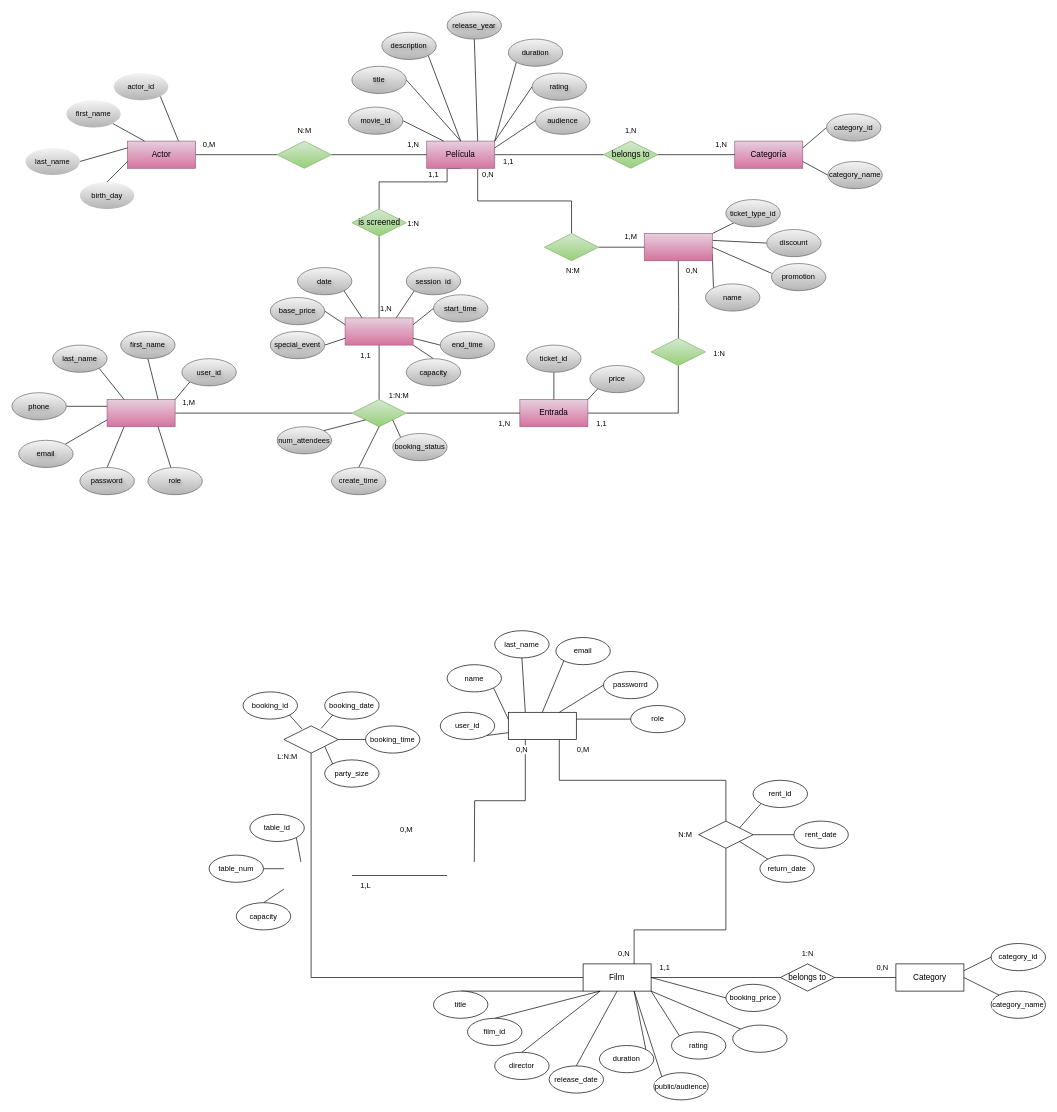
The diagram is 1057 pixels wide and 1112 high, and some of its shapes have lost their labels. The box of each missing label's shape, as (x1, y1, x2, y2) in pixels:
booking: (351, 399, 406, 427)
books: (283, 725, 338, 753)
has: (544, 233, 599, 261)
is: (650, 338, 706, 366)
participates: (276, 140, 332, 168)
rent_price: (732, 1024, 787, 1052)
rents: (698, 820, 753, 848)
Sesión: (344, 317, 413, 345)
Tipo entrada: (644, 233, 712, 261)
User: (508, 712, 576, 740)
Usuario: (106, 399, 175, 427)
